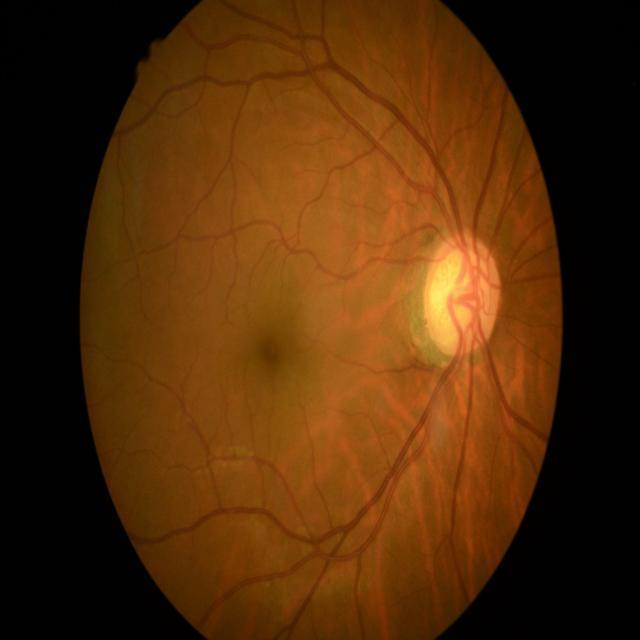cup: (429, 245, 489, 341)
disk: (424, 232, 502, 354)
